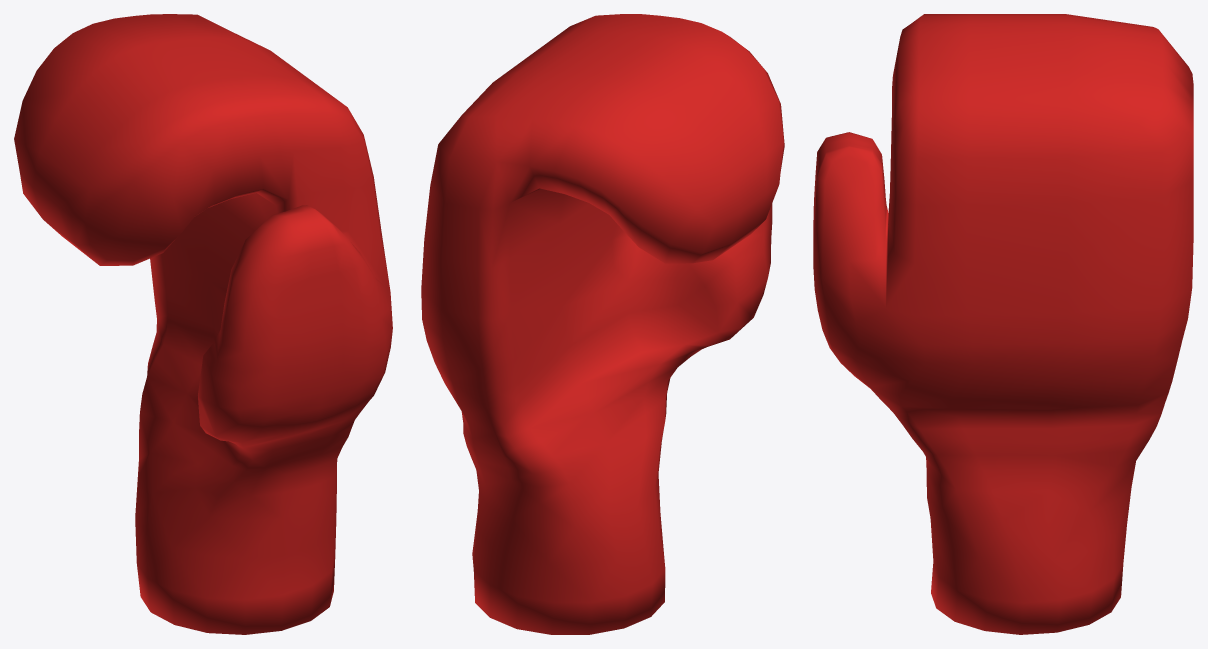
The model's file is bxglvsp(right).fbx.
3 views of the same model, side by side, from view 1: azimuth 30°, elevation 25°; view 2: azimuth 150°, elevation 25°; view 3: azimuth 270°, elevation 25° (orthographic). The views are drawn at different scales.
Visible parts, largest first — view 1: Cube.015_Cube.017; view 2: Cube.015_Cube.017; view 3: Cube.015_Cube.017.
Boxes of the visible parts, x1,y1,x2,y2 form: Cube.015_Cube.017: (14,14,392,634); Cube.015_Cube.017: (421,14,784,634); Cube.015_Cube.017: (813,14,1193,634).
Size of the model in its own units: 436 by 818 by 527.
